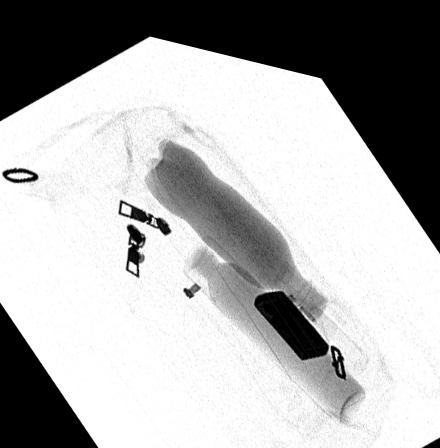Lighter: (252, 273, 330, 345)
